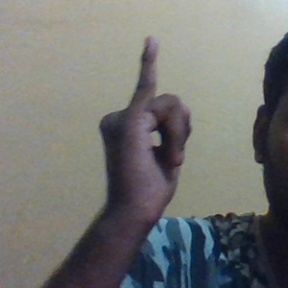I: (99, 34, 196, 208)
